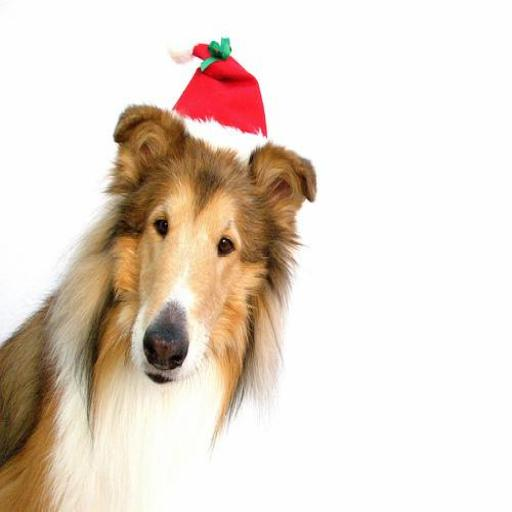dog_face: (102, 102, 328, 389)
